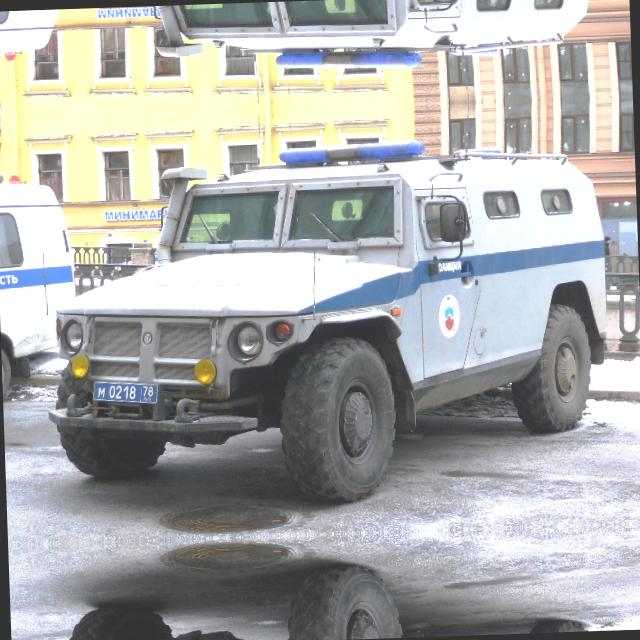police: (88, 372, 162, 410)
